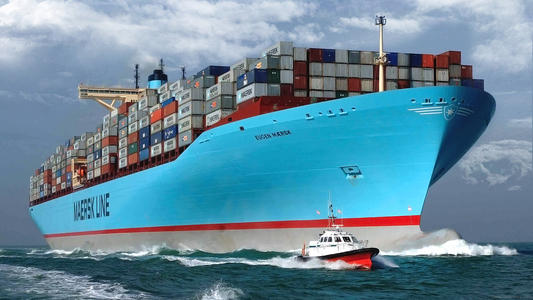Cargoship: (25, 11, 497, 253)
otherboat: (269, 208, 384, 272)
